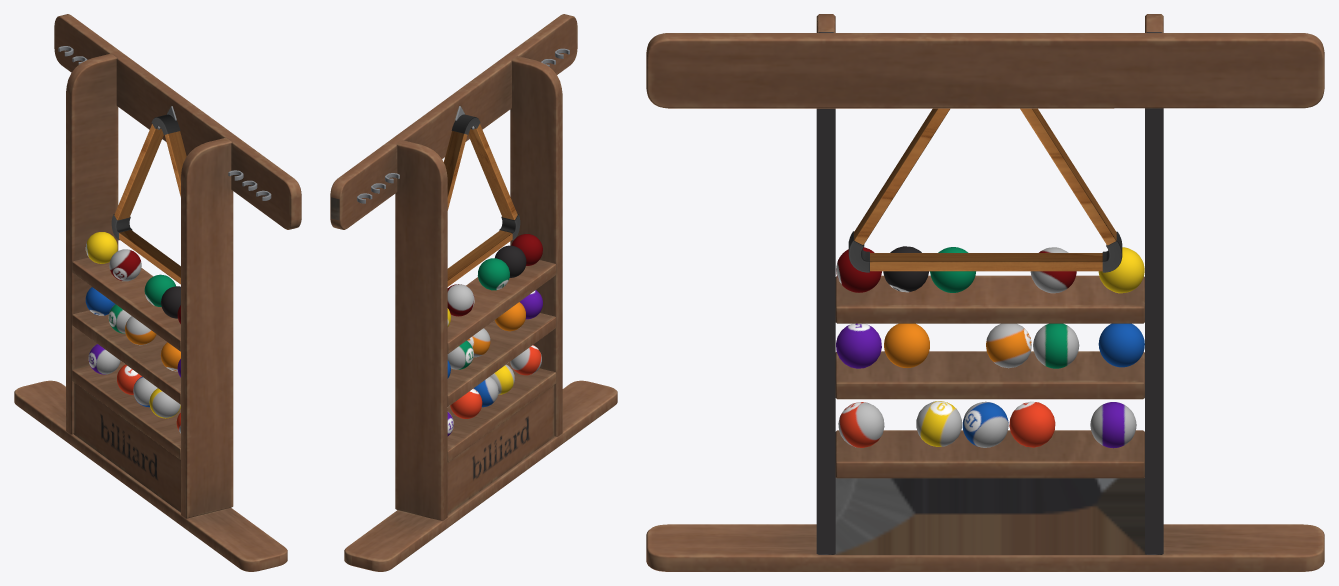
Rendered from SM_PoolBall_Rack_01.fbx.
The picture shows the model from 3 angles, left to right: view 1: azimuth 30°, elevation 25°; view 2: azimuth 150°, elevation 25°; view 3: azimuth 270°, elevation 25°; orthographic projection. The views are drawn at different scales.
Parts seen in each view (by area): view 1: SM_PoolBall_Rack_01_LOD0; view 2: SM_PoolBall_Rack_01_LOD0; view 3: SM_PoolBall_Rack_01_LOD0.
Part boxes in pixels (box(x1,y1,x2,y2)): SM_PoolBall_Rack_01_LOD0: box(14, 14, 301, 571); SM_PoolBall_Rack_01_LOD0: box(330, 14, 617, 571); SM_PoolBall_Rack_01_LOD0: box(646, 14, 1324, 571).
Bounding box in the file's own units: 17.95 × 132 × 116.
Materials: 2 (2 with a texture image).
